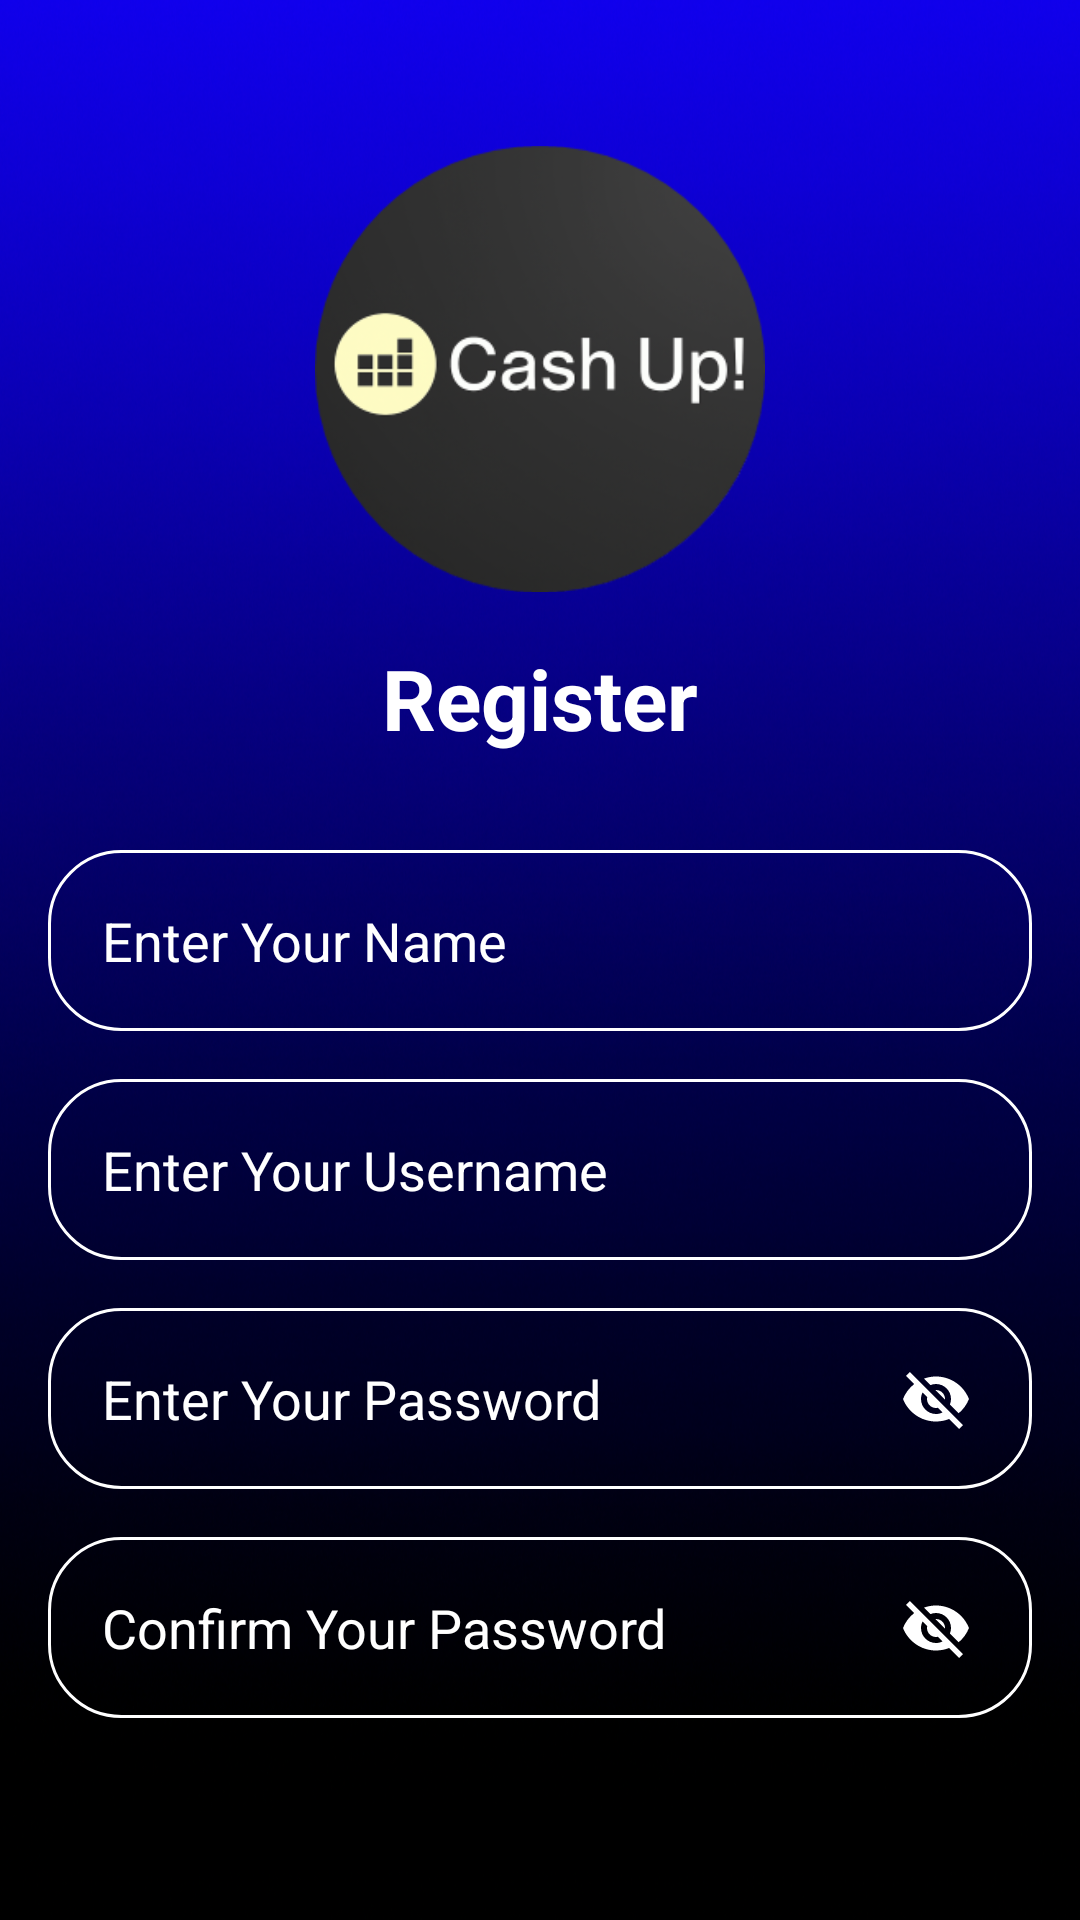

Icons on this 1080x1920 Android screen, each with its box as (x1, y1, x2, y2):
Toggle confirm password visibility: (903, 1601, 969, 1658)
Toggle password visibility: (903, 1372, 969, 1429)
